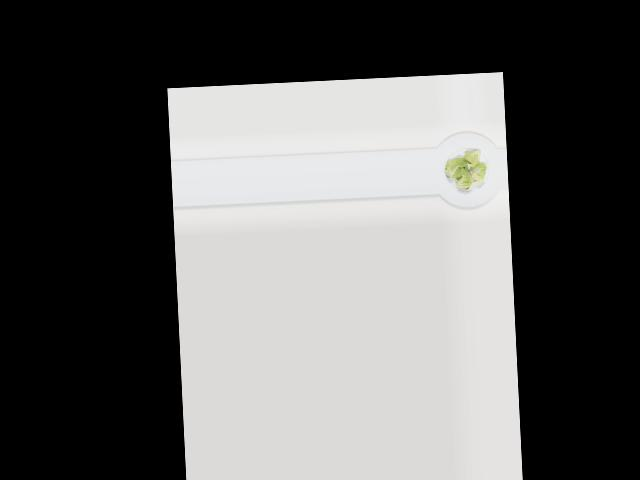lettuce: (440, 148, 486, 192)
